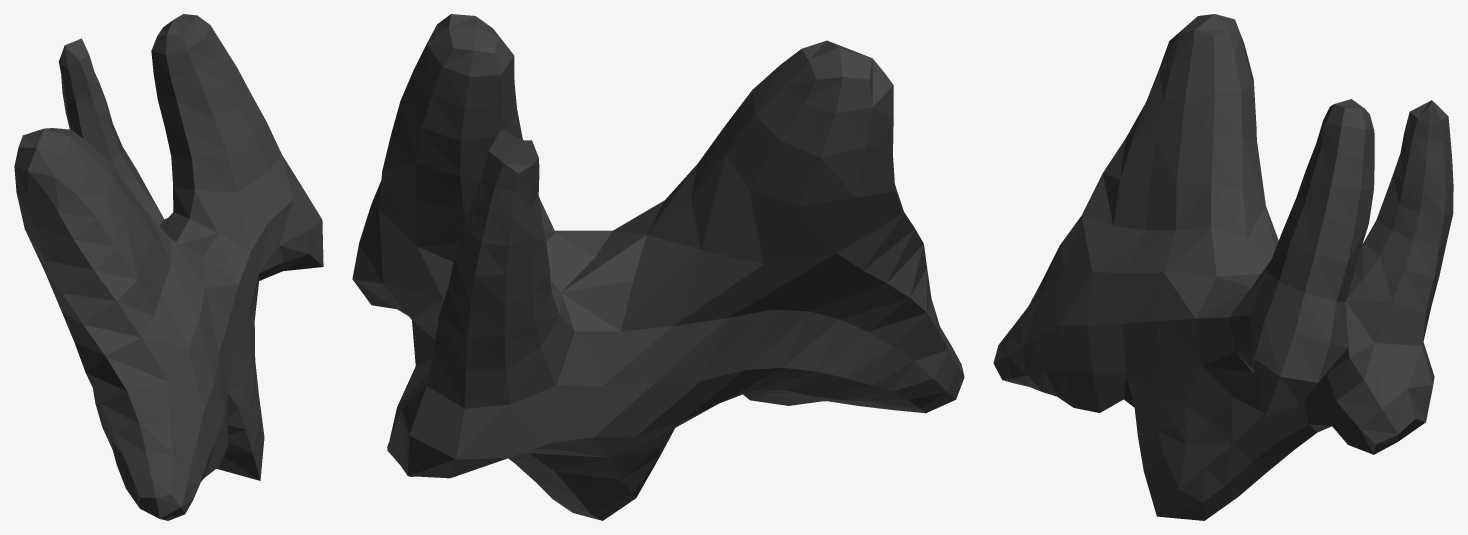
3 views of the same model, side by side, from view 1: azimuth 30°, elevation 25°; view 2: azimuth 150°, elevation 25°; view 3: azimuth 270°, elevation 25° (orthographic). The views are drawn at different scales.
Visible parts, largest first — view 1: world; view 2: world; view 3: world.
Part boxes in pixels (bbox=[...]): world: bbox=[14, 14, 323, 520]; world: bbox=[352, 14, 964, 520]; world: bbox=[993, 14, 1453, 520].
Bounding box in the file's own units: 0.0864 × 0.0974 × 0.0959.
1 material, 1 textured.
